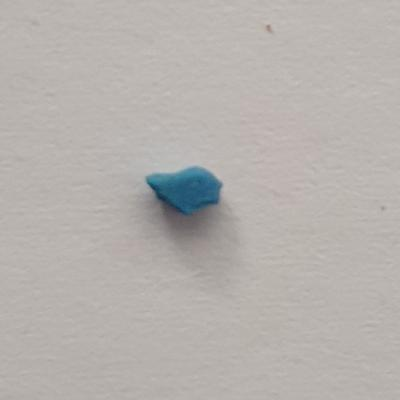plastic: (142, 165, 231, 220)
